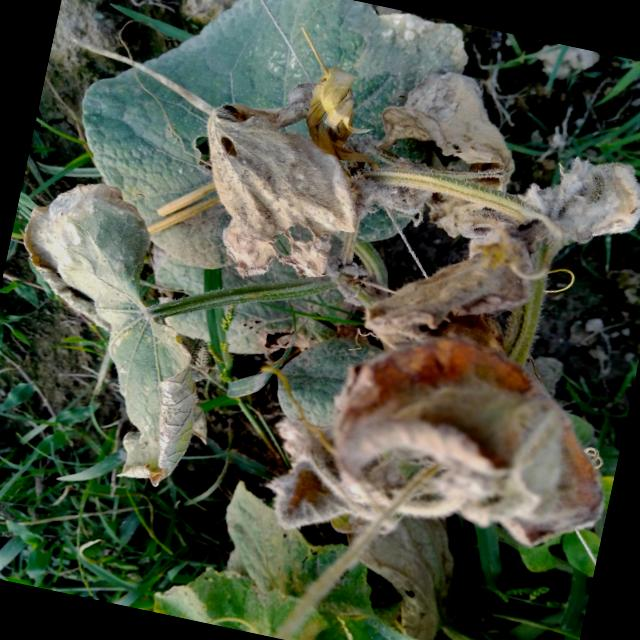cucumber_bacterial: (53, 0, 538, 276), (306, 276, 640, 587), (0, 163, 248, 505), (160, 118, 408, 293), (238, 309, 412, 552)
